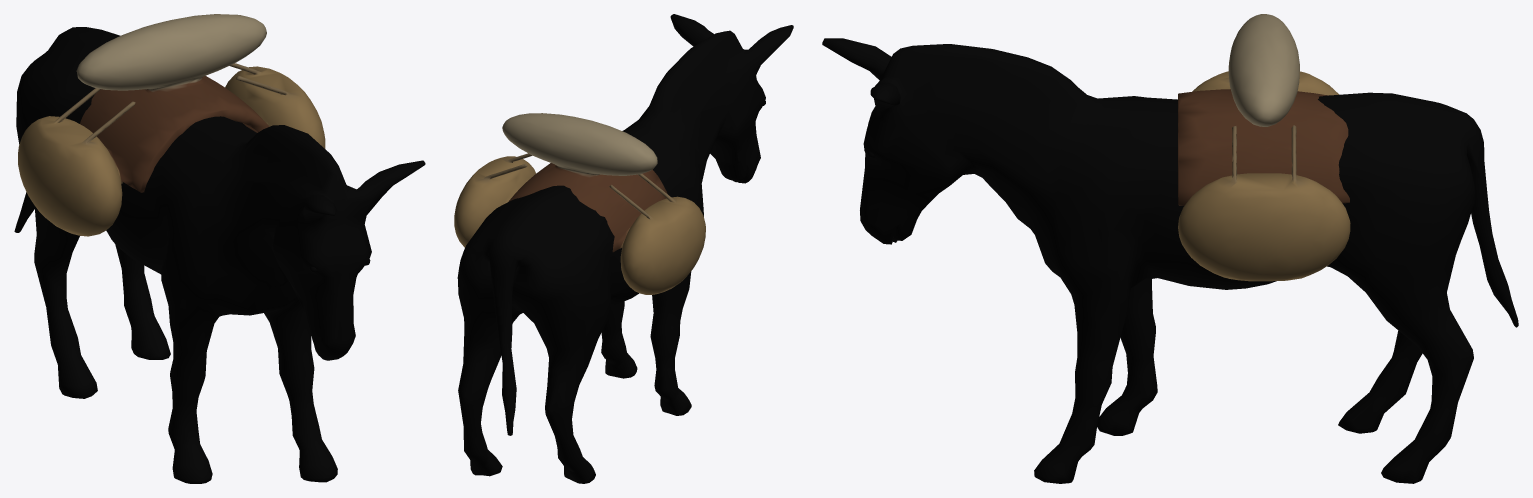
File: mule_pack.glb
The picture shows the model from 3 angles, left to right: view 1: azimuth 30°, elevation 25°; view 2: azimuth 150°, elevation 25°; view 3: azimuth 270°, elevation 25°; orthographic projection. The views are drawn at different scales.
Visible parts, largest first — view 1: lod0; view 2: lod0; view 3: lod0.
Part boxes in pixels (x1,y1,x2,y2): lod0: (14,14,425,483); lod0: (454,14,793,483); lod0: (822,14,1518,483).
Size of what is drawn, in the model's own units: 1.1 by 1.53 by 2.34.
